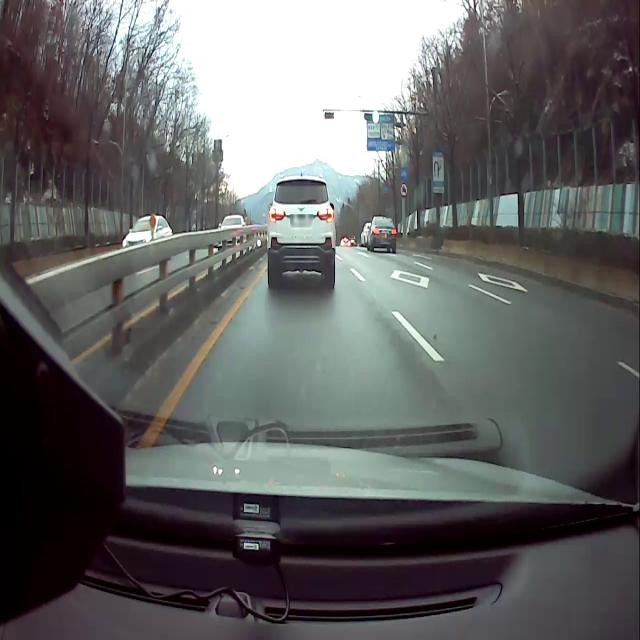Green Light: (372, 111, 380, 123), (334, 110, 339, 122)
